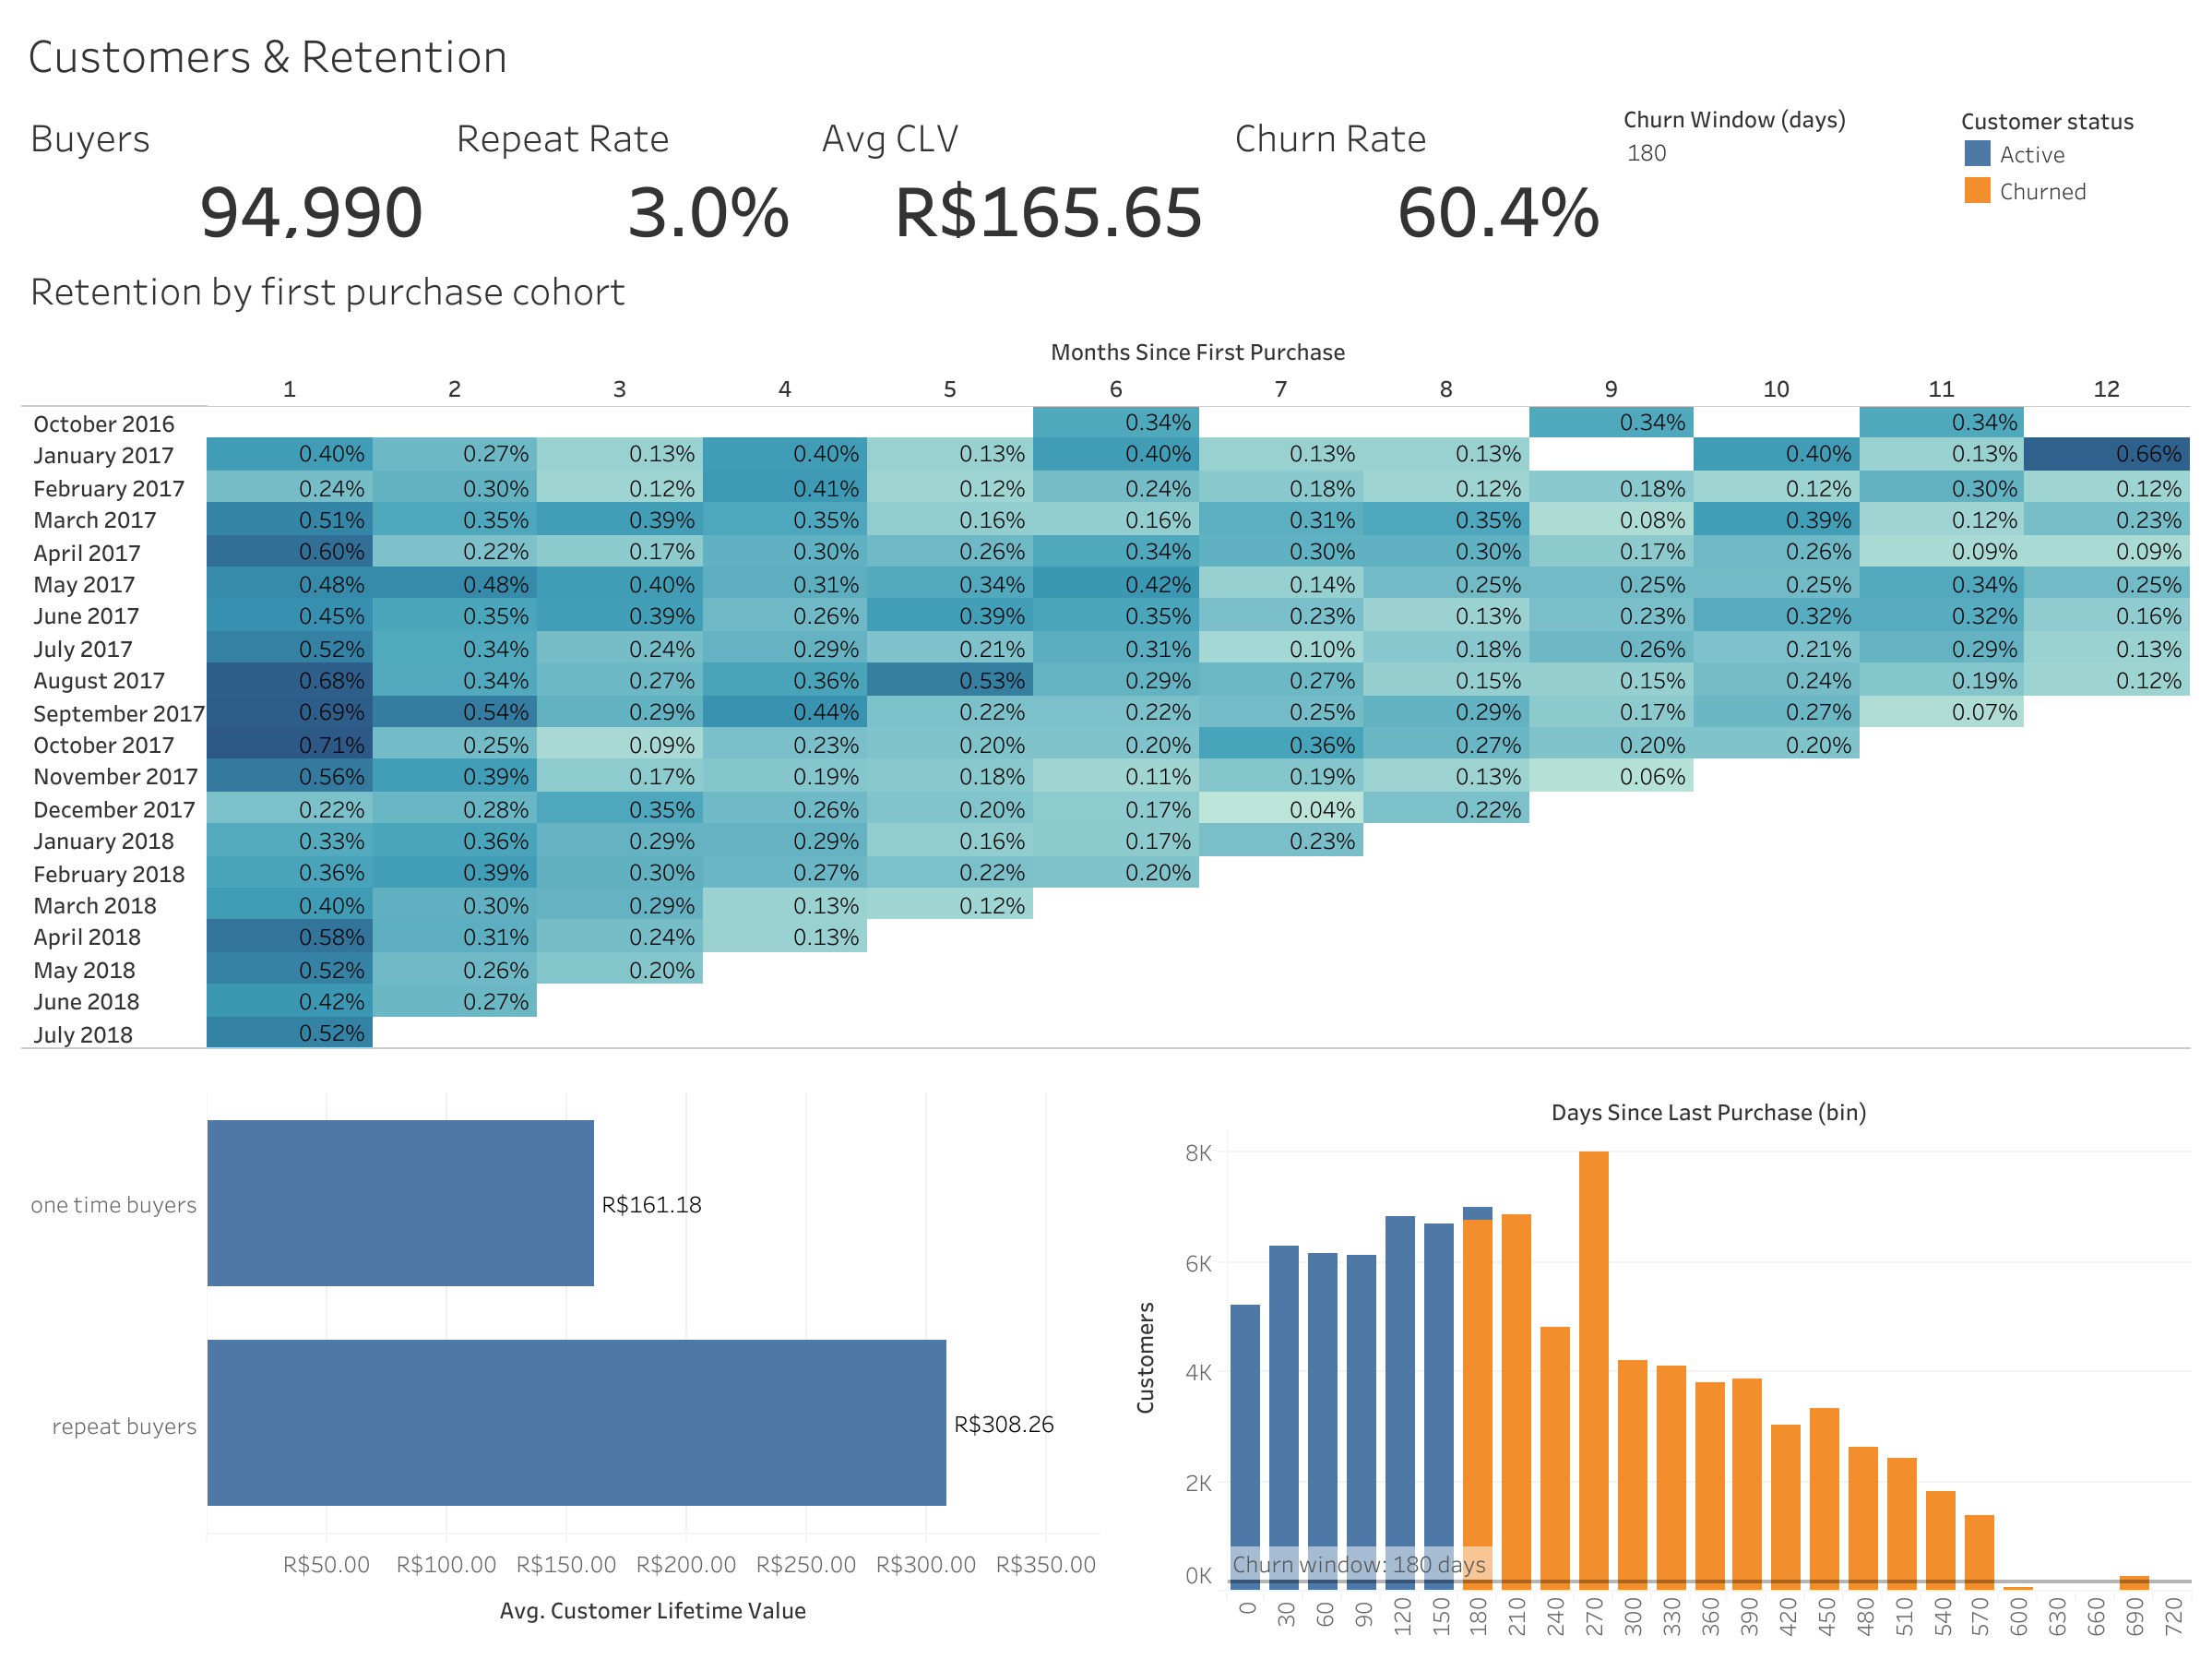

This screenshot's page, from the dashboard's own definition file:
{"tool":"tableau","page":{"name":"Customers & Retention","canvas":[1200,900],"ordinal":0},"visuals":[{"type":"title","box":[8,8,1184,42]},{"type":"worksheet","title":"KPI Buyers","mark":"Automatic","box":[8,50,231,82.9]},{"type":"worksheet","title":"KPI Repeat","mark":"Automatic","box":[239,50,198,82.9]},{"type":"worksheet","title":"KPI CLV","mark":"Automatic","box":[437,50,224,82.9]},{"type":"worksheet","title":"KPI Churn","mark":"Automatic","box":[661,50,215,82.9]},{"type":"parameter","param":"[Parameters].[Parameter 3524896484913154]","box":[876,50,181.9,82.9]},{"type":"legend","title":"Recency","param":"[federated.10h02og0t0atg210vf7wo0wuhvnv].[none:Calculation_3524896486273028:nk]","box":[1057.9,50,134.1,82.9]},{"type":"worksheet","title":"Cohort Heatmap","mark":"Square","rows":["COHORT_MONTH"],"cols":["MONTHS_SINCE_FIRST_PURCHASE"],"box":[8,132.9,1184,440.1]},{"type":"worksheet","title":"CLV by Type","mark":"Automatic","rows":["CUSTOMER_TYPE"],"cols":["CUSTOMER_LIFETIME_VALUE"],"box":[8,573,592,319]},{"type":"worksheet","title":"Recency","mark":"Automatic","rows":["CUSTOMER_UNIQUE_ID"],"cols":["Days Since Last Purchase (bin)"],"box":[600,573,592,319]}]}

Visuals, with their boxes in screenshot pixels (x1, y1, x2, y2), scaled from the page's 1200x900 canvas onto the 2212x1659 screenshot:
title: (x1=15, y1=15, x2=2197, y2=92)
"KPI Buyers" worksheet: (x1=15, y1=92, x2=441, y2=245)
"KPI Repeat" worksheet: (x1=441, y1=92, x2=805, y2=245)
"KPI CLV" worksheet: (x1=805, y1=92, x2=1219, y2=245)
"KPI Churn" worksheet: (x1=1219, y1=92, x2=1615, y2=245)
parameter: (x1=1615, y1=92, x2=1950, y2=245)
"Recency" legend: (x1=1950, y1=92, x2=2197, y2=245)
"Cohort Heatmap" worksheet (Square marks): (x1=15, y1=245, x2=2197, y2=1056)
"CLV by Type" worksheet: (x1=15, y1=1056, x2=1106, y2=1644)
"Recency" worksheet: (x1=1106, y1=1056, x2=2197, y2=1644)
